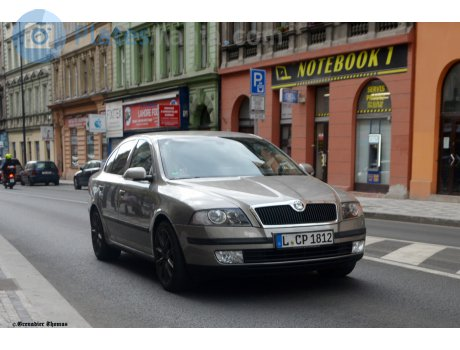License Plates: (283, 231, 336, 245)
